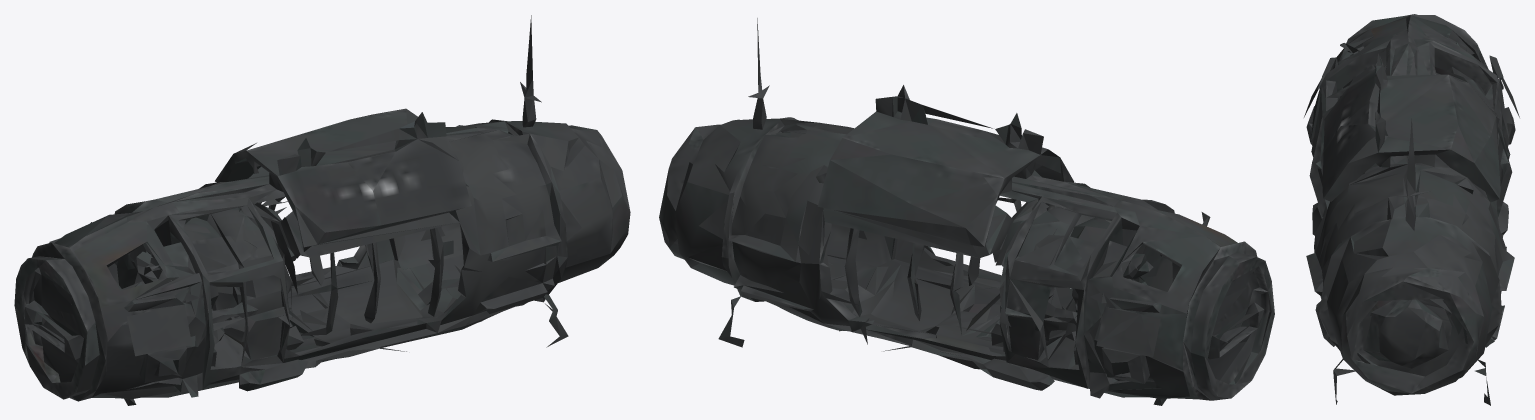
The model's file is crashed_lander.glb.
3 renders of one model, left to right at view 1: azimuth 30°, elevation 25°; view 2: azimuth 150°, elevation 25°; view 3: azimuth 270°, elevation 25°, orthographic. The views are drawn at different scales.
Size of the model in its own units: 5.84 by 3 by 2.
Materials: 1 (1 with a texture image).
